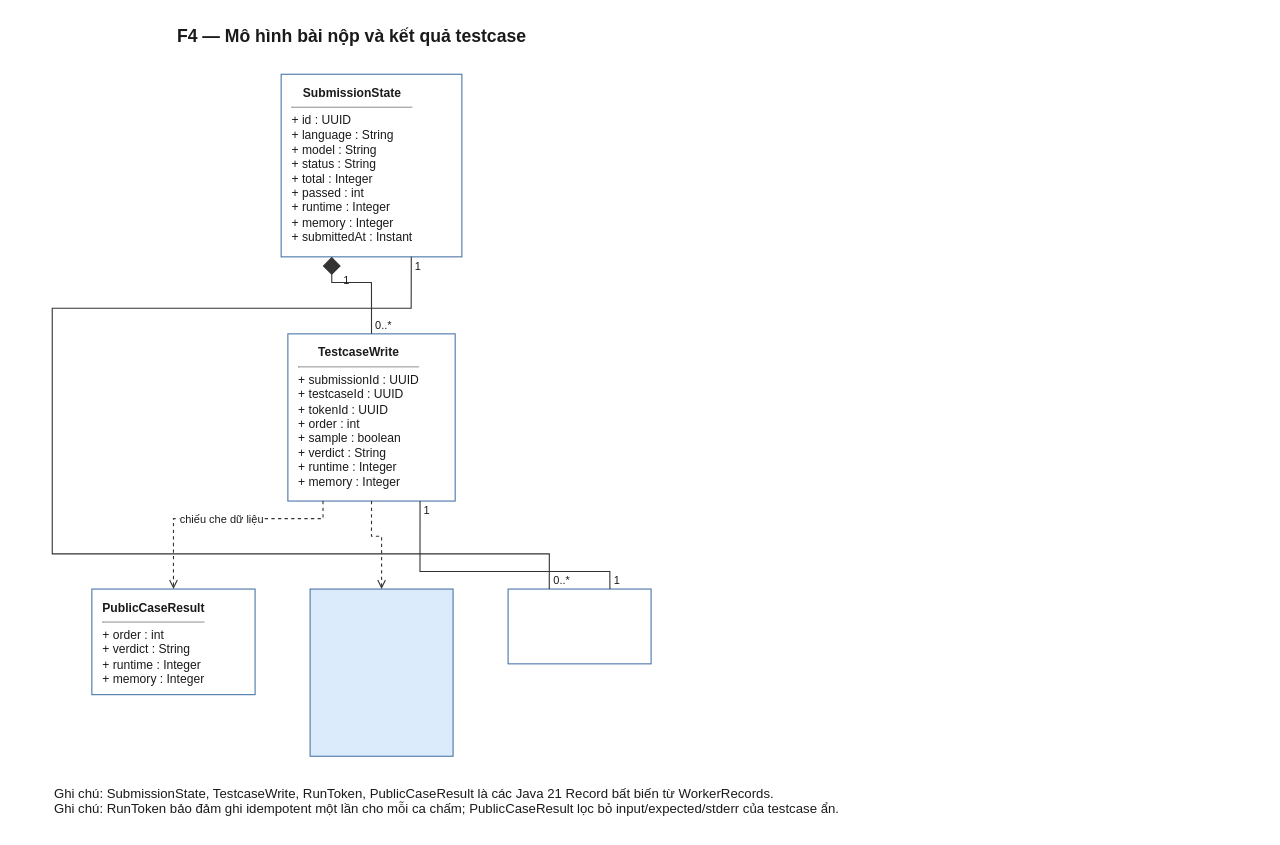
Image size: 1280x845. Some labels were removed from this diagram. Here are the shapes that lost their labels. From the top down, the centre of each, then its label:
At pixel 579 626: "RunToken + id : UUID + value : UUID".
At pixel 381 672: "Verdict <<interface>> AC WA TLE MLE RE COMPILE_ERROR SYSTEM_ERROR".
